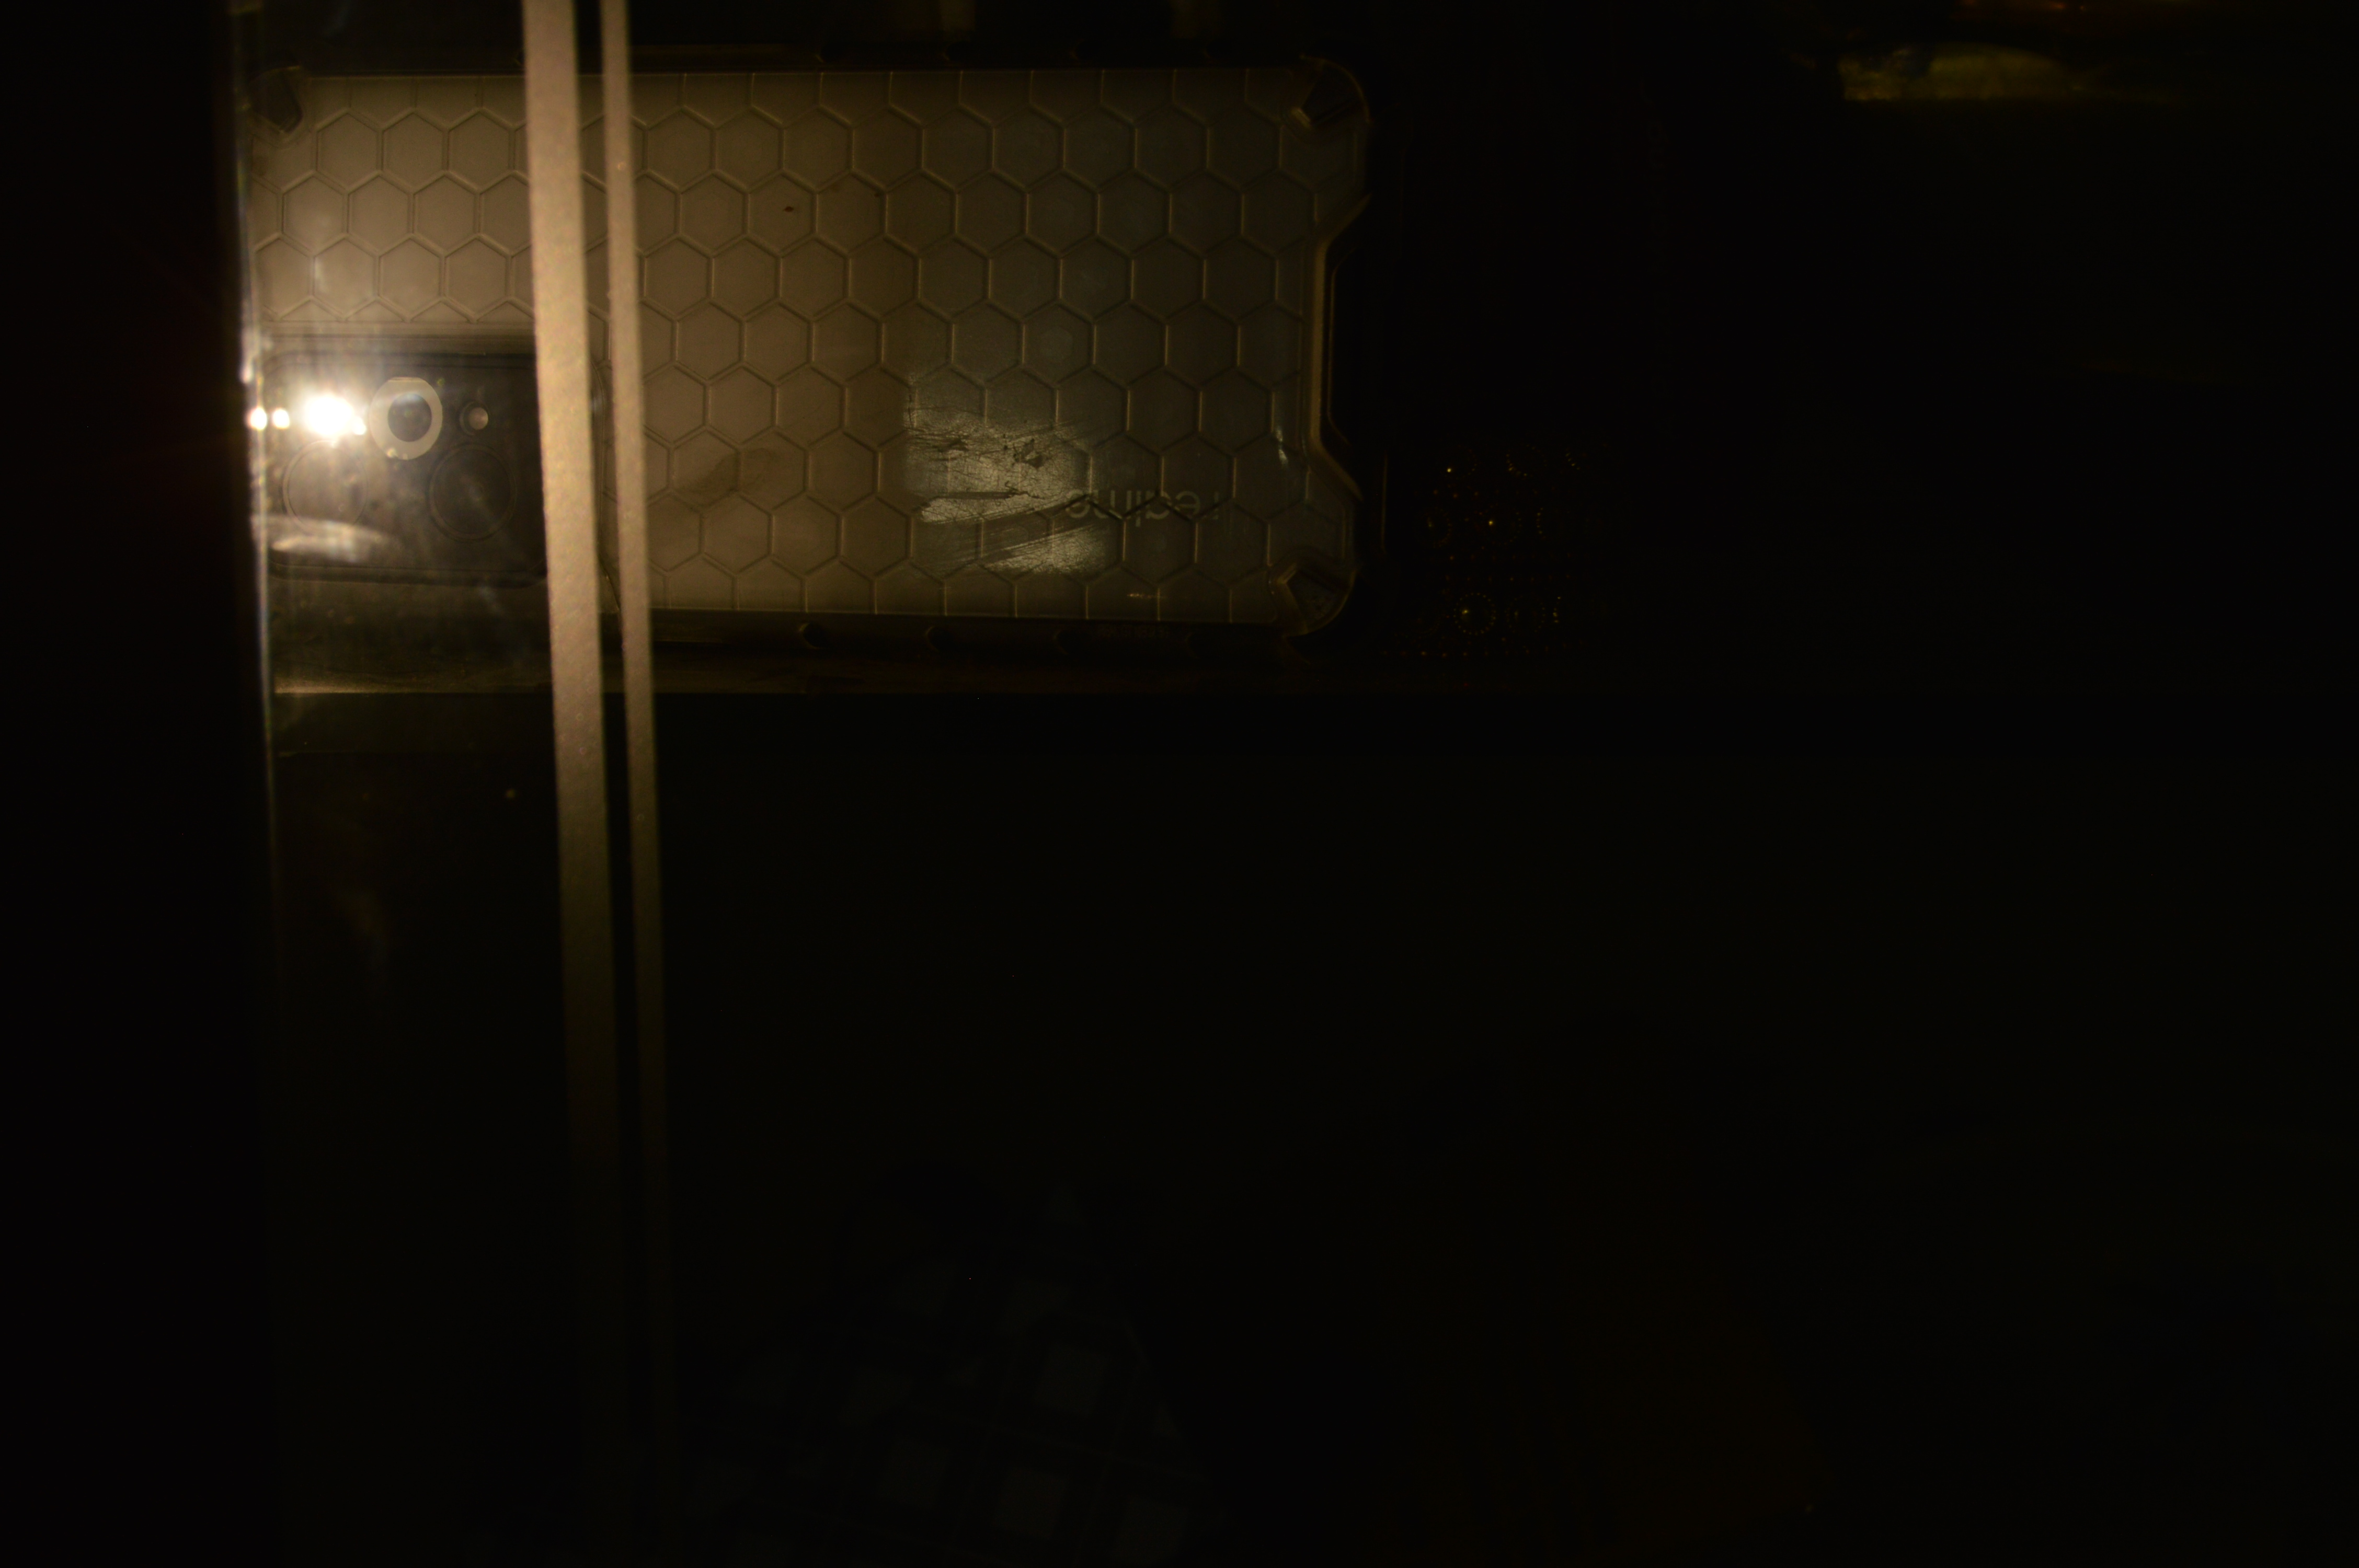Glare: (292, 383, 366, 450)
